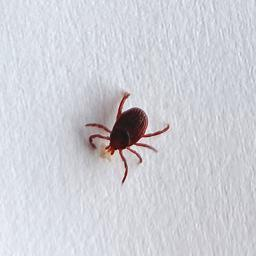Rhipicephalus sanguineus: (85, 92, 170, 185)
